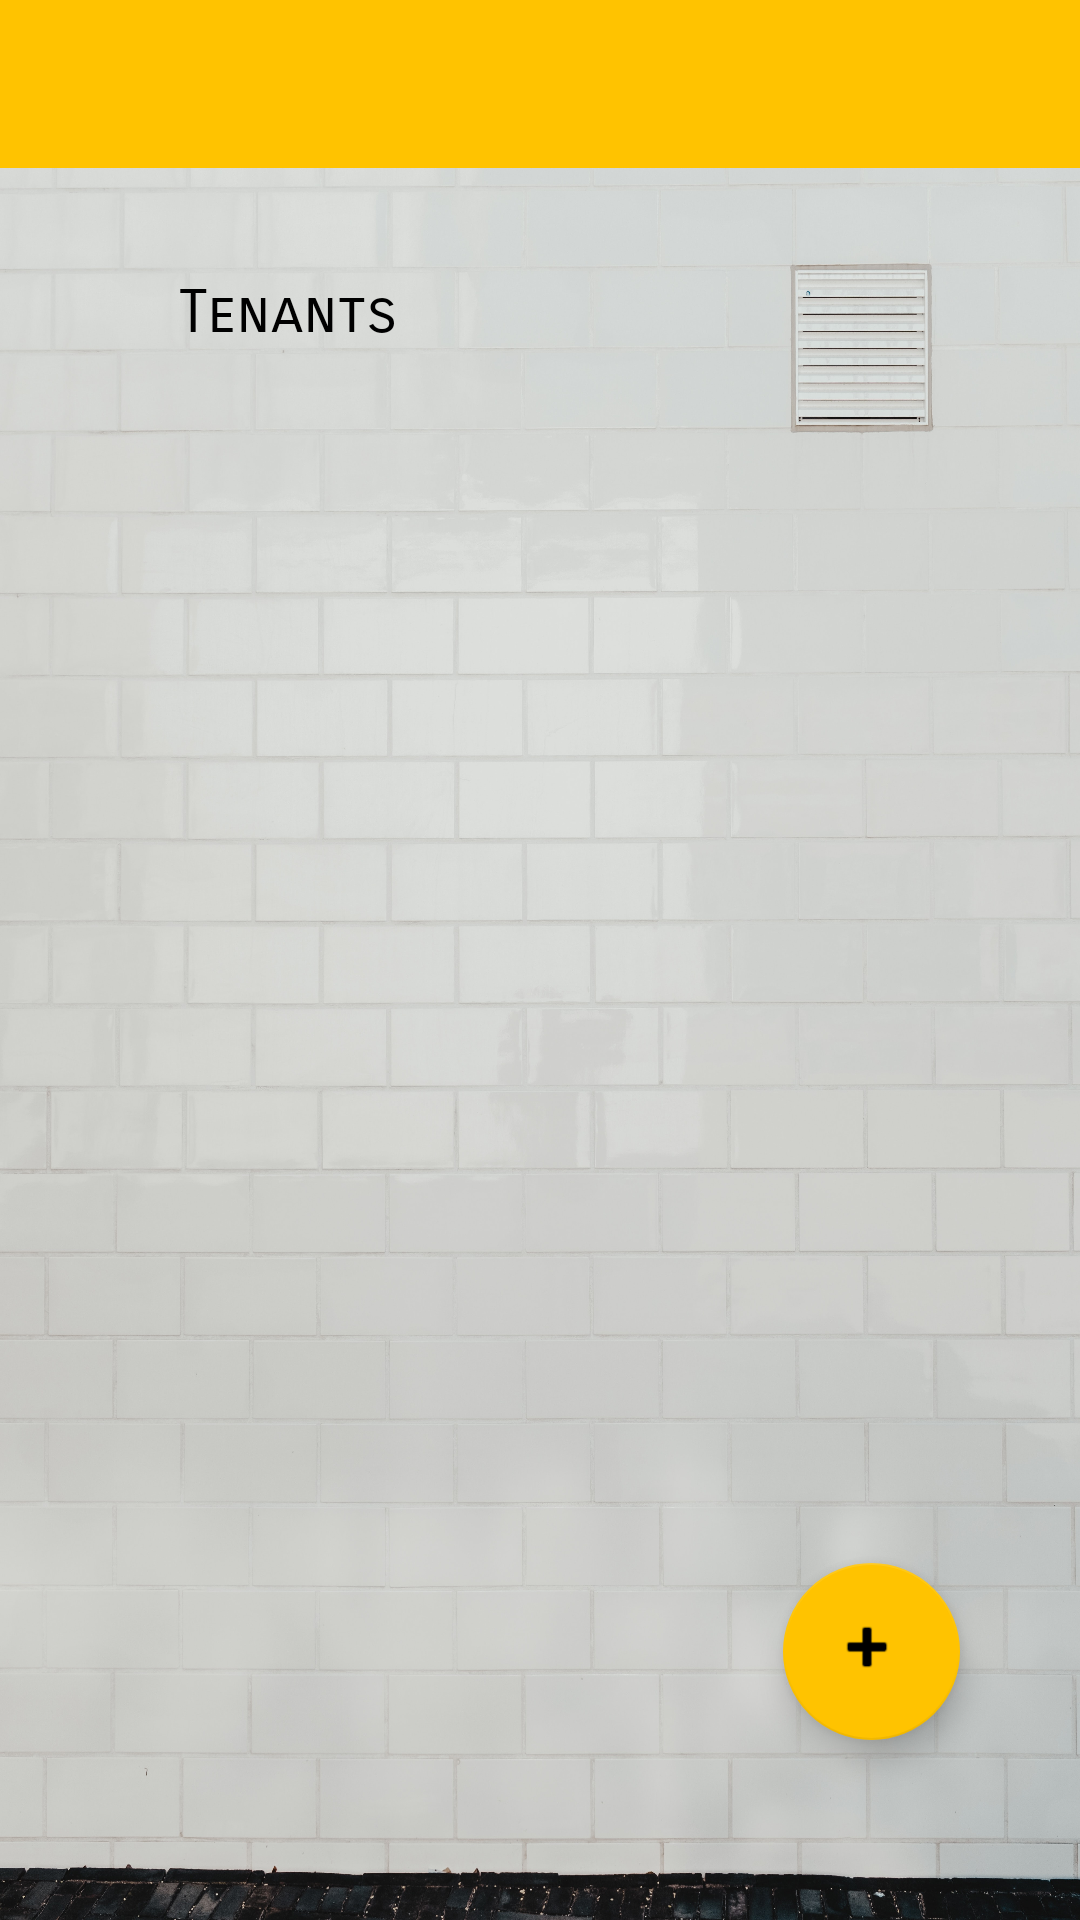

Icons on this 1080x1920 Android screen, each with its box as (left=x1, top=y1, right=x2, bottom=y2):
add: (left=783, top=1563, right=960, bottom=1740)
